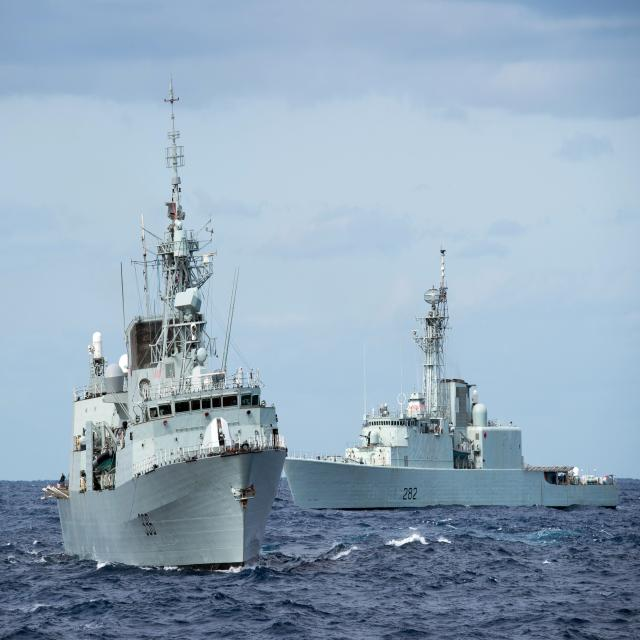navalvessels: (48, 96, 282, 575), (285, 233, 621, 511)
